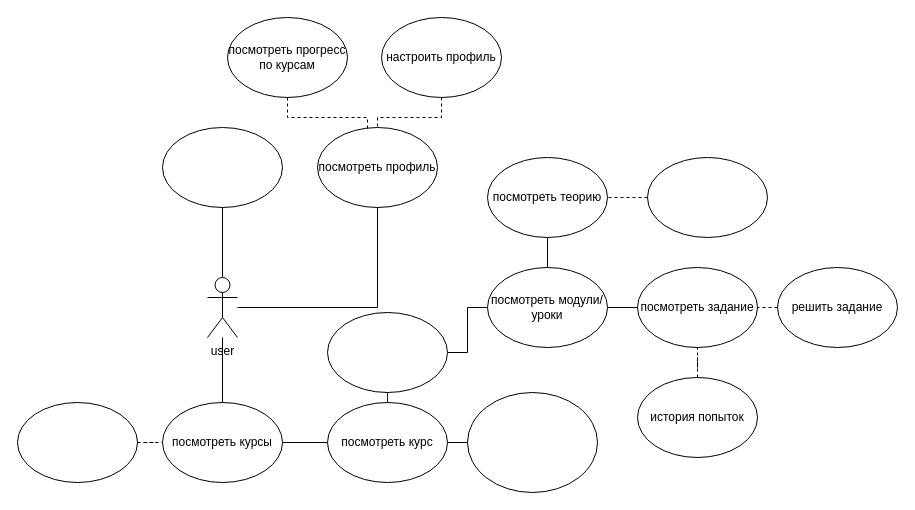
This 915x510 diagram has some shape labels left out. The centre of each missing label's shape, as x and y in pixels:
"авторизоваться" belongs at point (222, 167).
"начать курс/ продолжить" belongs at point (387, 352).
"посмотрел теорию" belongs at point (707, 197).
"посмотреть подробную информацию о курсе" belongs at point (532, 442).
"фильтры и сортировка" belongs at point (77, 442).
